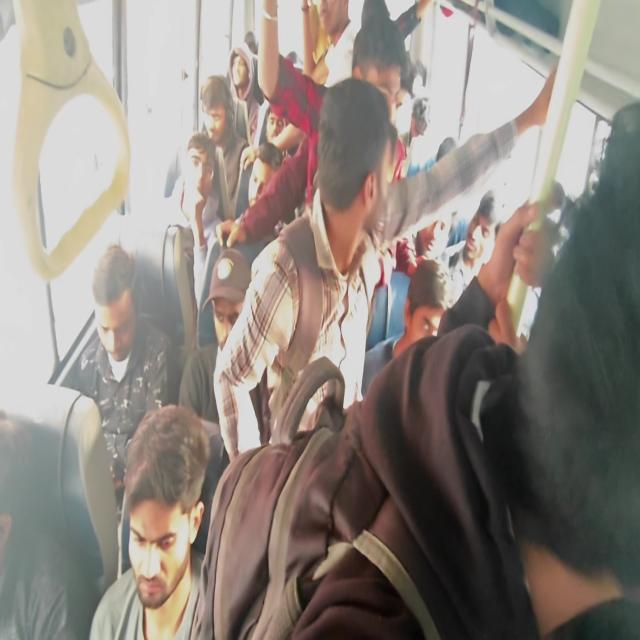person: (193, 98, 639, 638), (224, 1, 558, 258), (481, 100, 639, 638), (212, 76, 396, 462), (60, 242, 173, 578), (88, 403, 210, 638), (178, 246, 270, 462), (361, 258, 449, 397), (166, 132, 225, 310), (200, 74, 250, 221), (392, 258, 449, 360), (446, 189, 497, 303), (301, 0, 355, 87), (226, 40, 264, 147)
